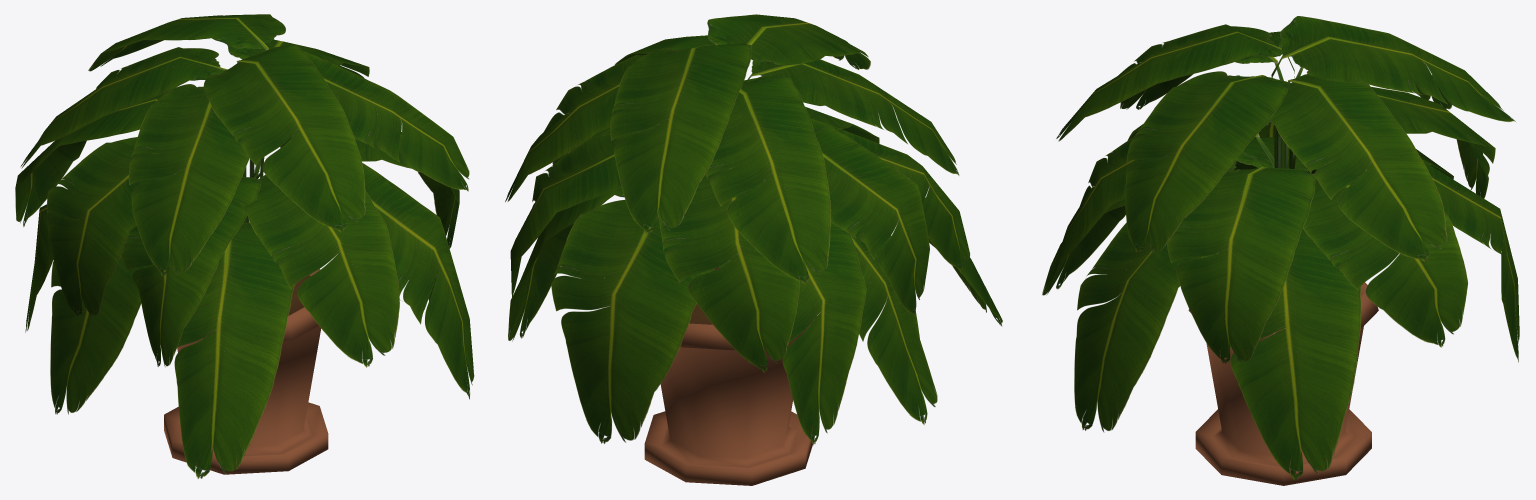
Rendered from PottedPlant.glb.
3 renders of one model, left to right at view 1: azimuth 30°, elevation 25°; view 2: azimuth 150°, elevation 25°; view 3: azimuth 270°, elevation 25°, orthographic. The views are drawn at different scales.
Visible parts, largest first — view 1: Potted plant; view 2: Potted plant; view 3: Potted plant.
Part boxes in pixels (x1,y1,x2,y2): Potted plant: (15, 14, 474, 478); Potted plant: (505, 14, 1002, 485); Potted plant: (1042, 16, 1519, 485).
Bounding box in the file's own units: 1.05 × 1.05 × 1.1.
3 materials, 1 textured.
